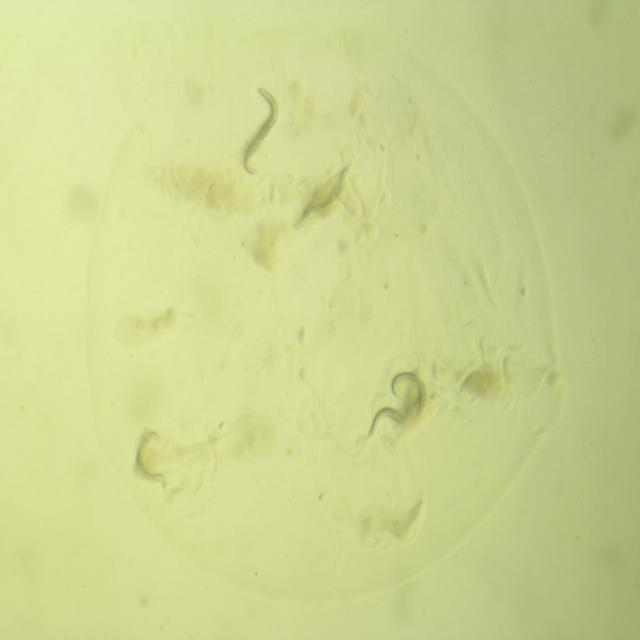worm: (229, 68, 288, 186), (284, 153, 356, 244), (120, 416, 180, 501), (358, 386, 446, 442), (380, 362, 434, 441)
